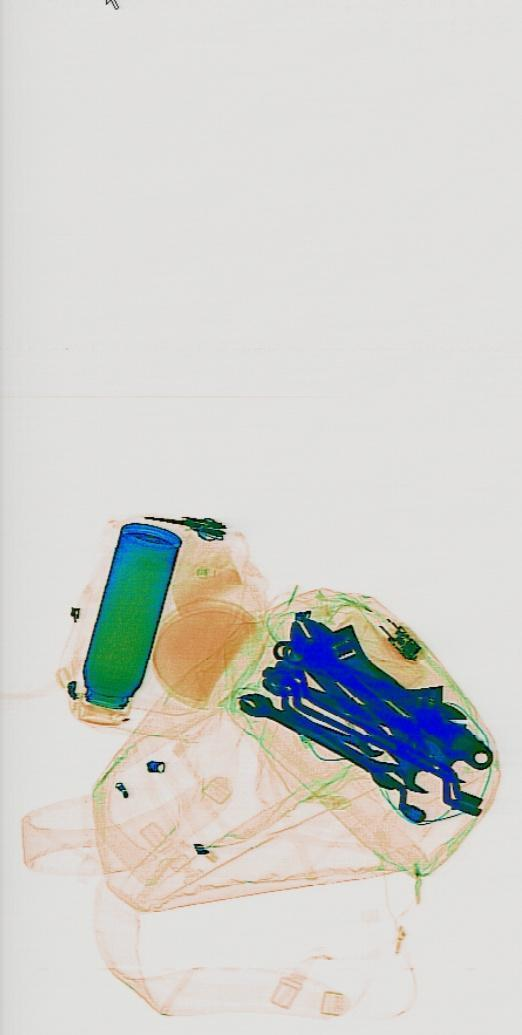Wrench: (284, 587, 498, 794), (238, 681, 387, 785), (350, 693, 437, 806)
